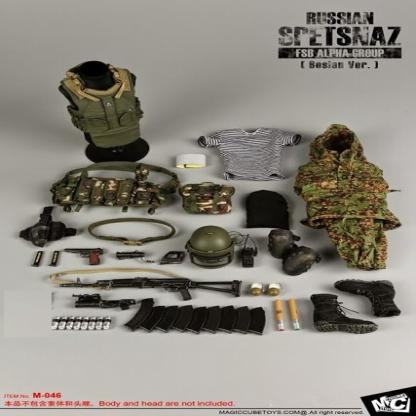Grenade: (266, 281, 283, 296), (249, 282, 264, 296)
Gun: (57, 274, 241, 303)
Pistol: (62, 246, 106, 266)
